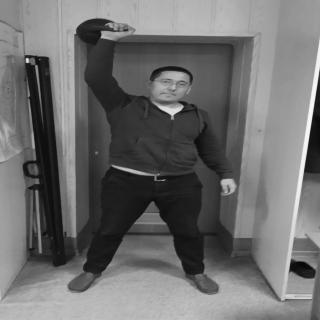girya: (79, 19, 133, 47)
